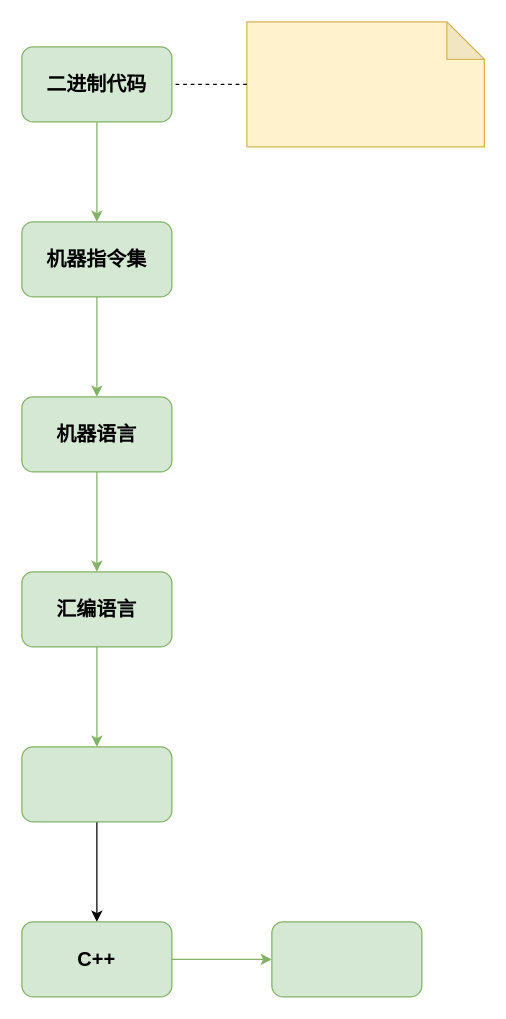
This 506x1019 diagram has some shape labels left out. The box of each missing label's shape, as (x1, y1, x2, y2) in pixels:
C语言: (21, 746, 172, 822)
Java: (271, 921, 422, 997)
